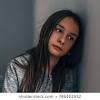Sad: (40, 10, 83, 61)
